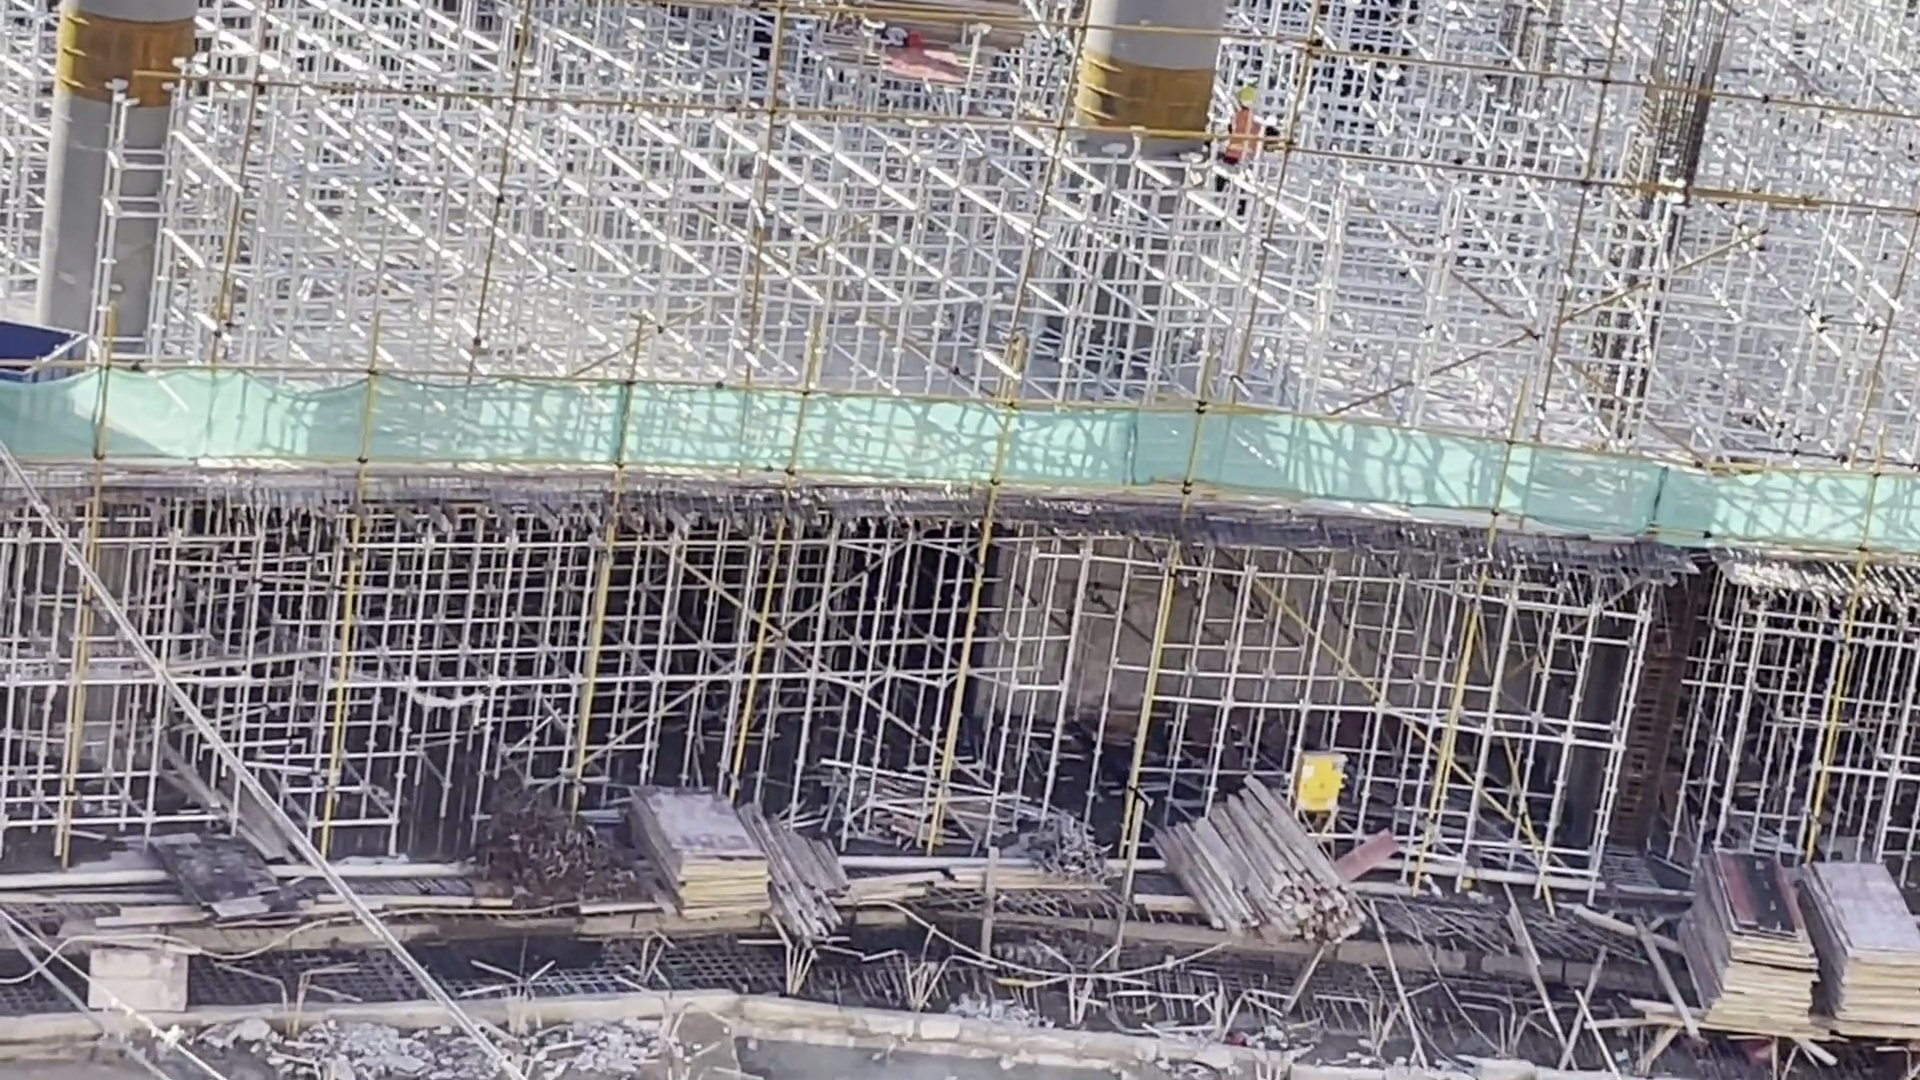board: (1680, 845, 1816, 1040), (1803, 865, 1920, 1058), (623, 773, 767, 917), (831, 1, 1040, 87)
ebox: (1293, 737, 1346, 827)
helmet: (1226, 88, 1262, 120)
hopper: (1, 311, 93, 387)
person: (1209, 84, 1264, 223)
vest: (1218, 122, 1259, 190)
wood: (1149, 777, 1354, 952)
